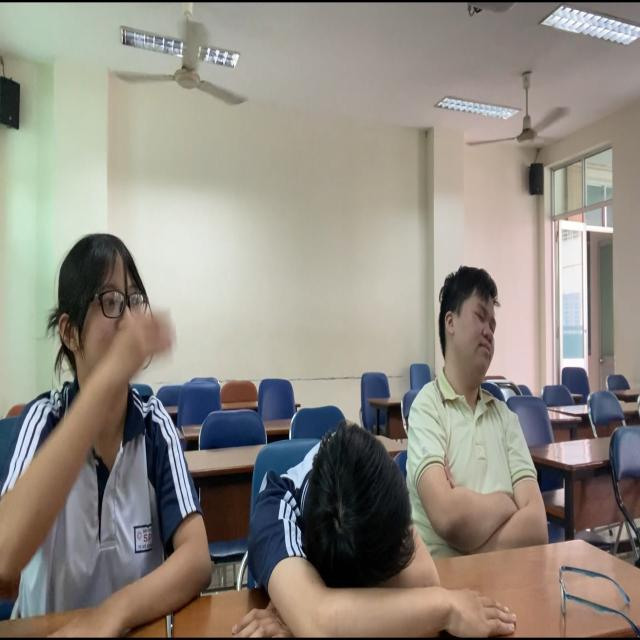sleep: (244, 422, 447, 640), (409, 268, 542, 537)
